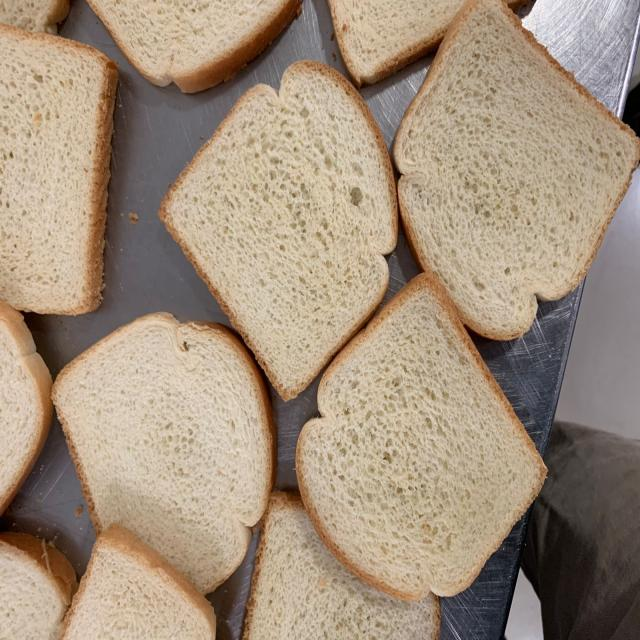pan: (393, 0, 640, 339), (298, 270, 548, 603), (160, 60, 399, 401), (53, 314, 273, 599)
